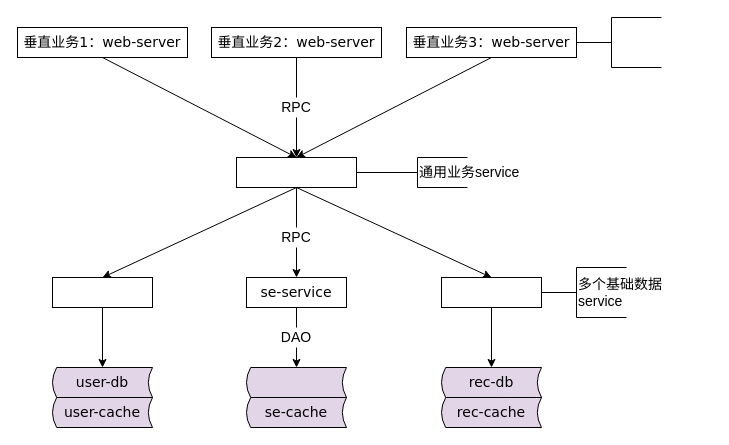
This 729x445 diagram has some shape labels left out. Each missing label, with the centre of its shape:
listing-service: point (296, 172)
rec-service: point (491, 292)
se-db: point (296, 382)
user-service: point (102, 292)
多个垂直拆分的 web-server: point (636, 42)
